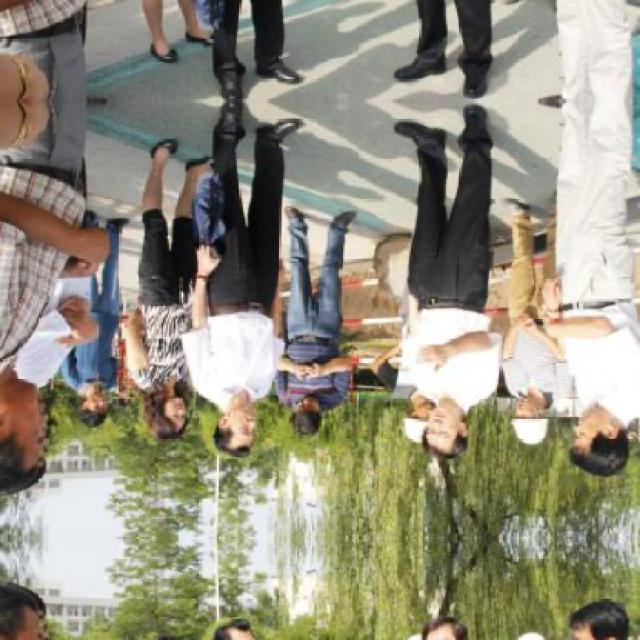sin casco: (0, 338, 68, 493), (556, 378, 628, 484), (204, 382, 276, 461), (406, 403, 480, 457), (69, 375, 136, 432), (154, 392, 198, 446)
